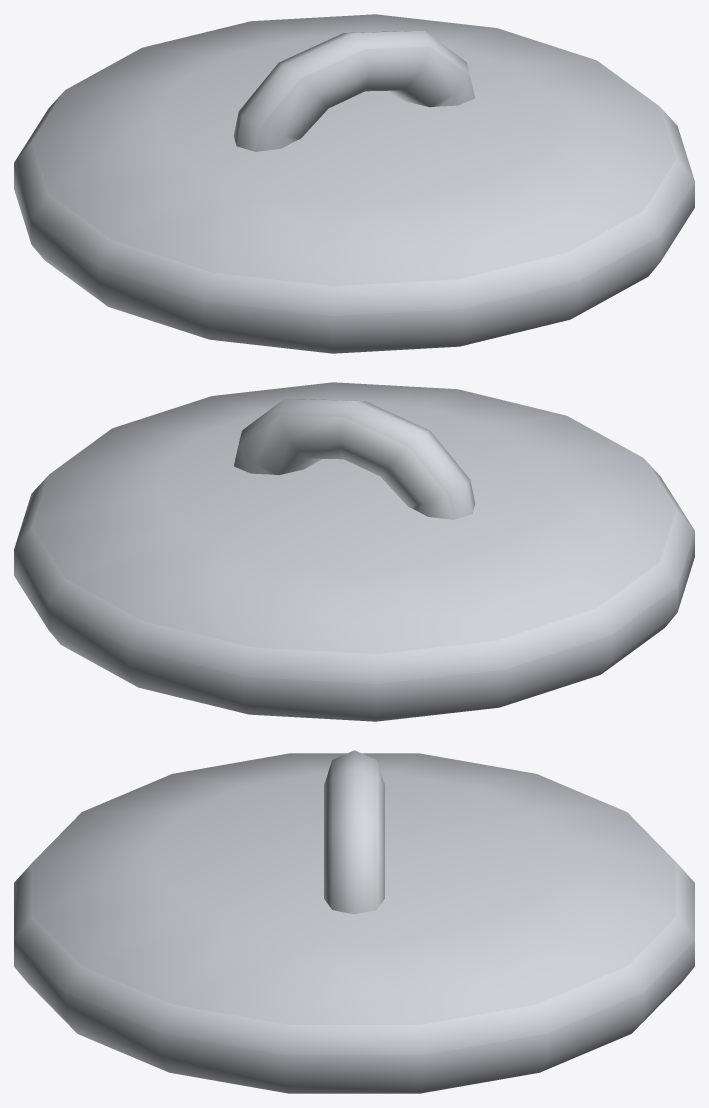
File: Lid.glb
3 views of the same model, one above another, from view 1: azimuth 30°, elevation 25°; view 2: azimuth 150°, elevation 25°; view 3: azimuth 270°, elevation 25° (orthographic).
Parts seen in each view (by area): view 1: lid; view 2: lid; view 3: lid.
Boxes of the visible parts, x1,y1,x2,y2 form: lid: (14,14,694,353); lid: (14,382,694,721); lid: (14,750,694,1093).
Size of the model in its own units: 0.7 by 0.2105 by 0.7.
Materials: 1 (1 with a texture image).
